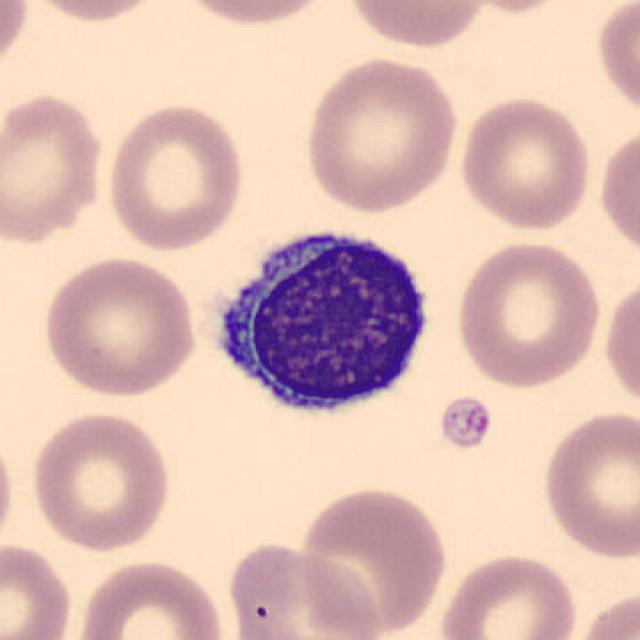Lymphocyte: (201, 214, 443, 428)
Platelets: (438, 395, 494, 451)
RBC: (300, 53, 462, 215), (297, 483, 451, 638), (39, 252, 199, 400), (452, 236, 604, 390), (103, 99, 247, 252), (27, 408, 174, 556), (455, 93, 596, 233), (0, 88, 108, 246), (222, 539, 385, 640), (537, 406, 638, 562), (73, 555, 229, 640), (436, 550, 582, 640), (0, 537, 76, 640), (341, 0, 491, 51), (594, 118, 638, 265), (592, 0, 638, 123), (601, 273, 640, 416), (169, 0, 338, 30), (17, 0, 167, 26), (570, 585, 640, 639), (0, 0, 32, 81), (0, 423, 18, 557), (437, 0, 583, 16)
